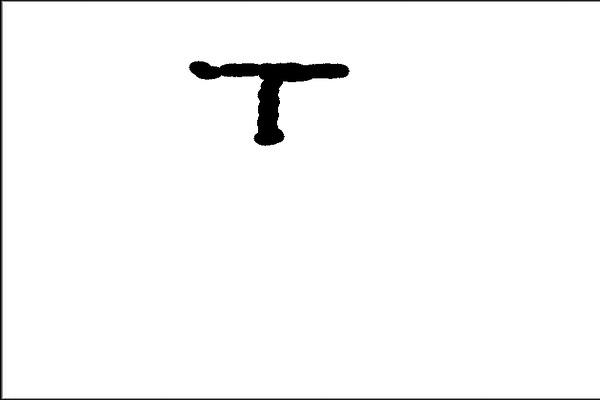T: (189, 46, 354, 159)
